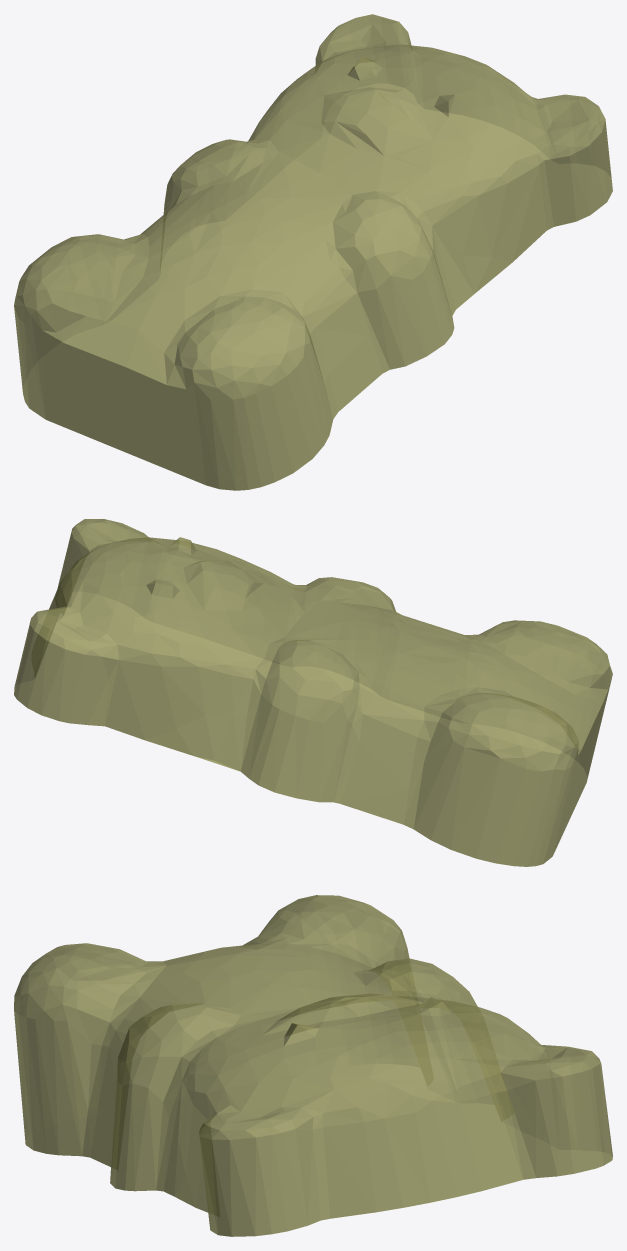
Rendered from CANDY5.fbx.
The picture shows the model from 3 angles, top to bottom: view 1: azimuth 30°, elevation 25°; view 2: azimuth 150°, elevation 25°; view 3: azimuth 270°, elevation 25°; orthographic projection. The views are drawn at different scales.
Parts seen in each view (by area): view 1: polySurface733; view 2: polySurface733; view 3: polySurface733.
Boxes of the visible parts, bbox=[...] form: polySurface733: bbox=[14, 14, 612, 490]; polySurface733: bbox=[14, 519, 612, 866]; polySurface733: bbox=[14, 895, 612, 1236].
Bounding box in the file's own units: 4.15 × 1.73 × 3.12.
